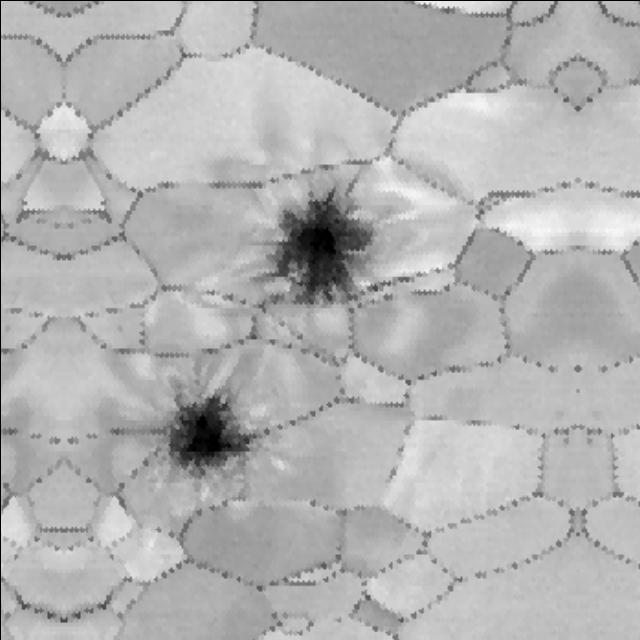good_void: (153, 373, 293, 483), (266, 182, 378, 315)
